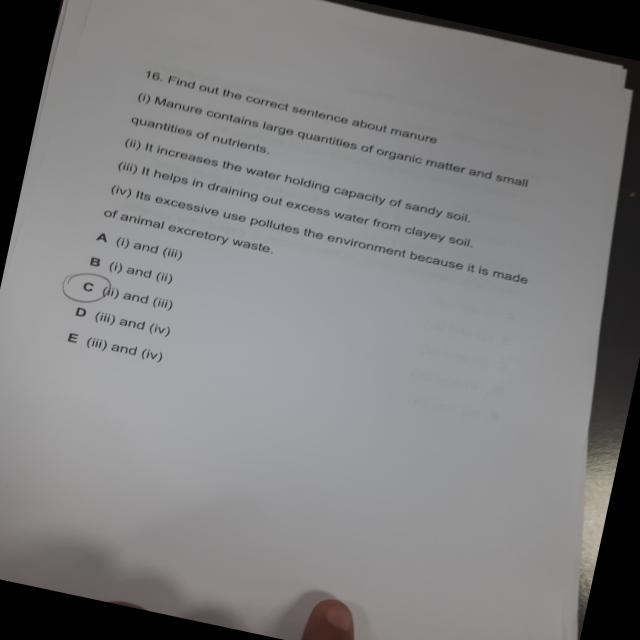C: (55, 266, 122, 311)
